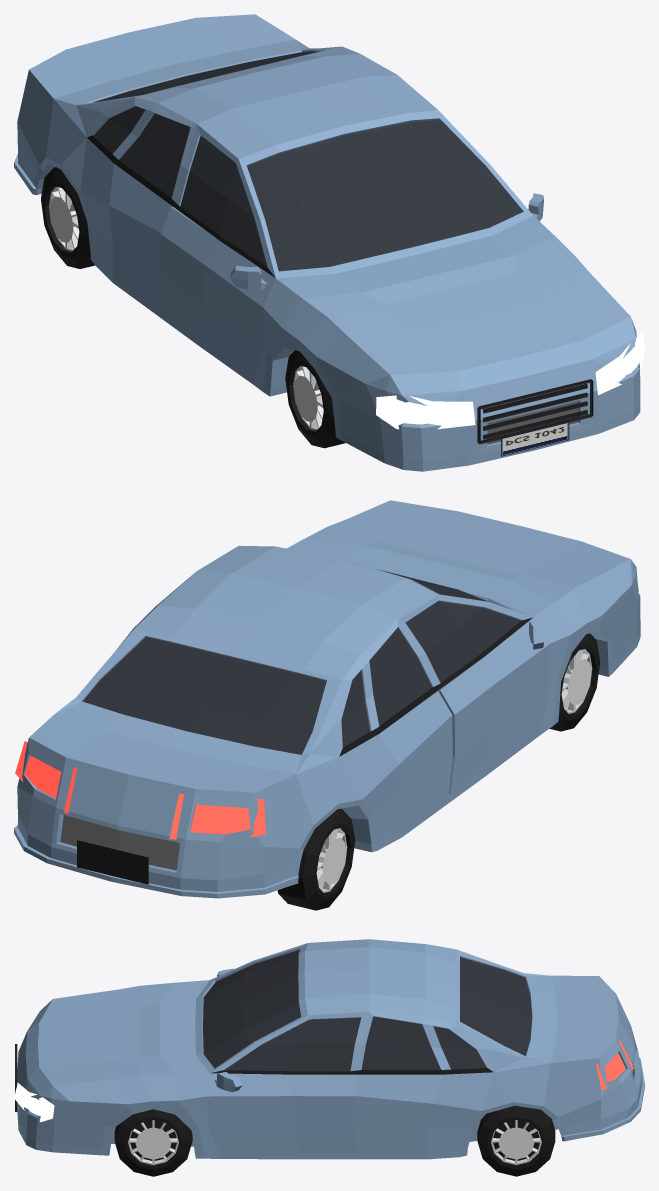
File: sedan.glb
3 renders of one model, top to bottom at view 1: azimuth 30°, elevation 25°; view 2: azimuth 150°, elevation 25°; view 3: azimuth 270°, elevation 25°, orthographic. The views are drawn at different scales.
Parts seen in each view (by area): view 1: body, hood, door_FR, door_RR, bumper_front, grille, wheel_RR, wheel_FR, headlight_R, hubcap (×2), plate, headlight_L; view 2: body, hood, door_RR, door_FR, bumper_rear, wheel_RR, taillight_R, wheel_FR, plate, hubcap (×2), taillight_L, bumper_front; view 3: body, hood, door_FL, door_RL, wheel_RL, wheel_FL, hubcap (×2), bumper_rear, bumper_front, headlight_L, taillight_L.
Boxes of the visible parts, x1,y1,x2,y2 form: body: (14, 14, 636, 462); hood: (263, 215, 636, 405); door_FR: (157, 135, 275, 392); door_RR: (78, 97, 199, 343); bumper_front: (342, 359, 640, 471); grille: (477, 379, 593, 444); wheel_RR: (41, 167, 94, 268); wheel_FR: (285, 350, 345, 448); headlight_R: (376, 395, 475, 429); hubcap (×2): (49, 196, 317, 422); plate: (501, 421, 569, 456); headlight_L: (595, 333, 644, 395); body: (14, 545, 638, 894); hood: (287, 500, 631, 643); door_RR: (334, 623, 485, 851); door_FR: (405, 594, 559, 793); bumper_rear: (14, 797, 265, 898); wheel_RR: (277, 808, 355, 910); taillight_R: (169, 793, 266, 839); wheel_FR: (549, 633, 600, 731); plate: (77, 840, 148, 884); hubcap (×2): (322, 659, 591, 884); taillight_L: (15, 741, 76, 814); bumper_front: (613, 575, 640, 663); body: (18, 939, 637, 1158); hood: (25, 980, 209, 1104); door_FL: (196, 1015, 361, 1159); door_RL: (304, 1016, 493, 1159); wheel_RL: (477, 1105, 555, 1176); wheel_FL: (114, 1109, 192, 1176); hubcap (×2): (135, 1127, 534, 1159); bumper_rear: (600, 1031, 644, 1134); bumper_front: (17, 1052, 99, 1155); headlight_L: (14, 1083, 54, 1121); taillight_L: (596, 1040, 633, 1090).
Size of the model in its own units: 1.93 by 1.25 by 4.52.
Materials: 12 (1 with a texture image).
